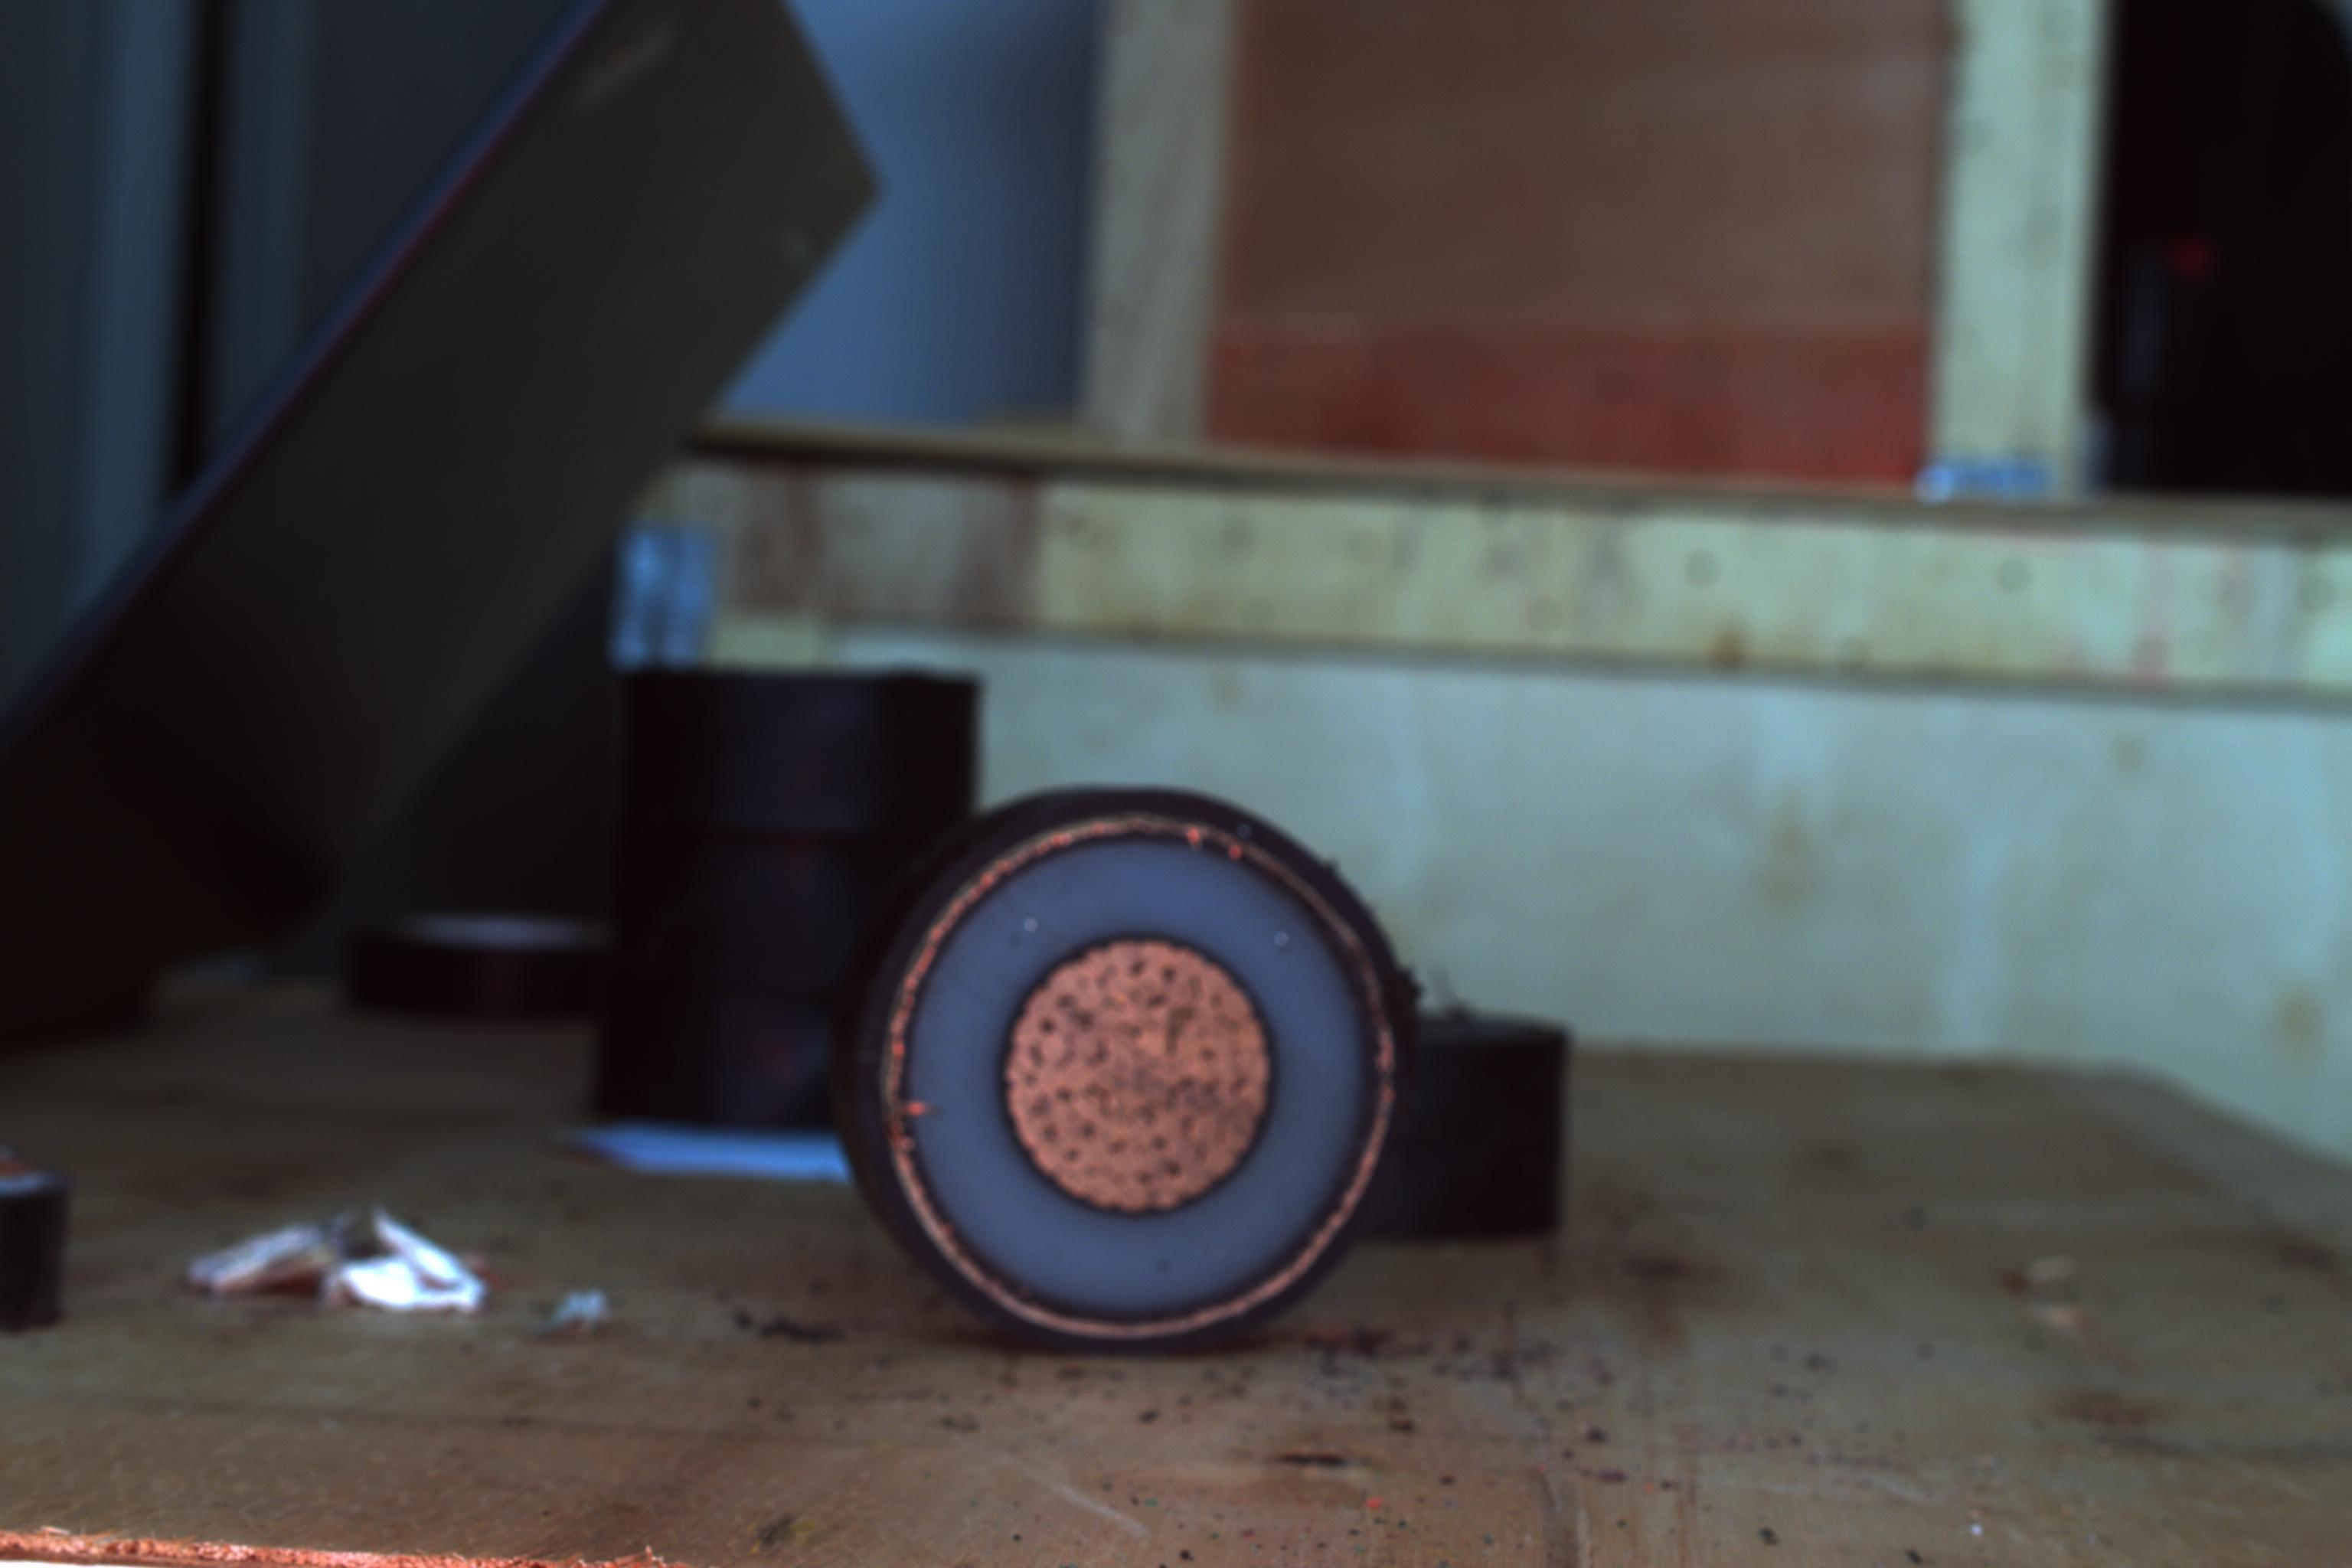YJV_26_35kV_1x630: (868, 821, 1393, 1342)
